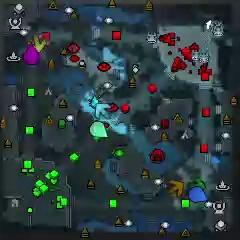p1: (188, 186, 208, 202)
p2: (90, 120, 108, 138)
p3: (23, 43, 40, 65)
x2: (27, 34, 46, 51)
x3: (95, 103, 110, 118)
x4: (187, 177, 206, 190)
x5: (167, 180, 184, 196)
